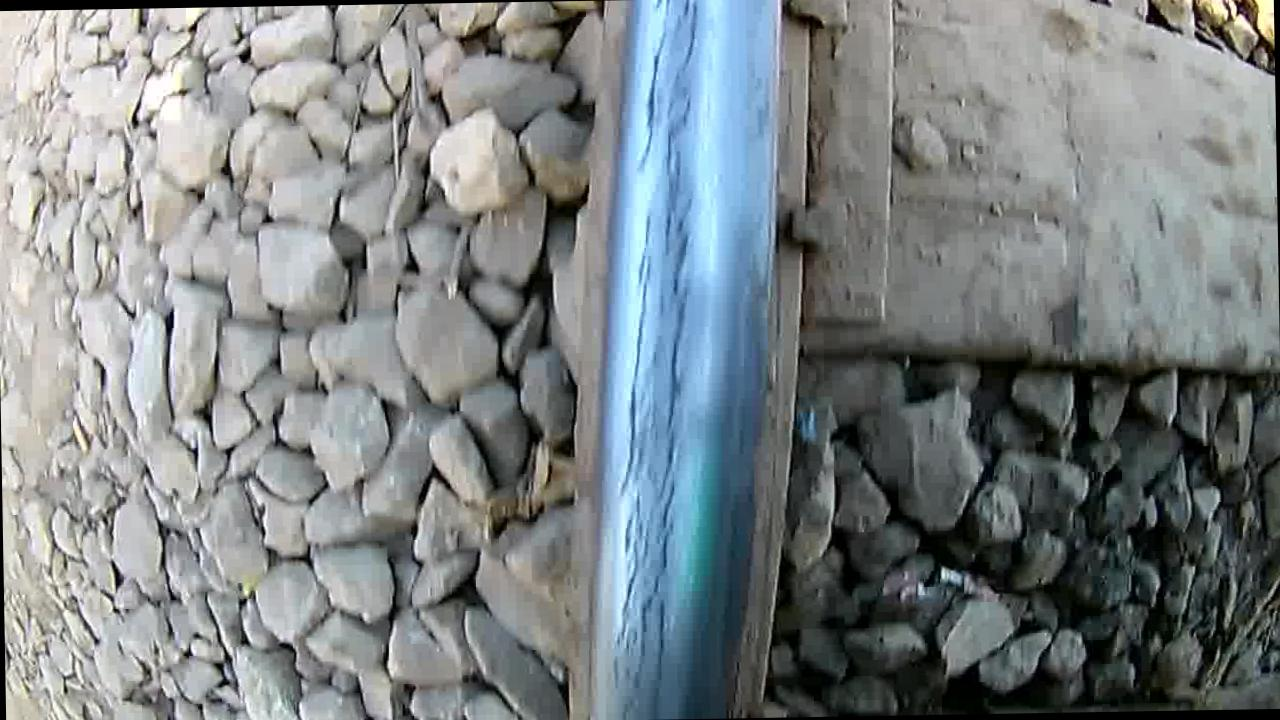normal_track: (607, 2, 729, 709)
